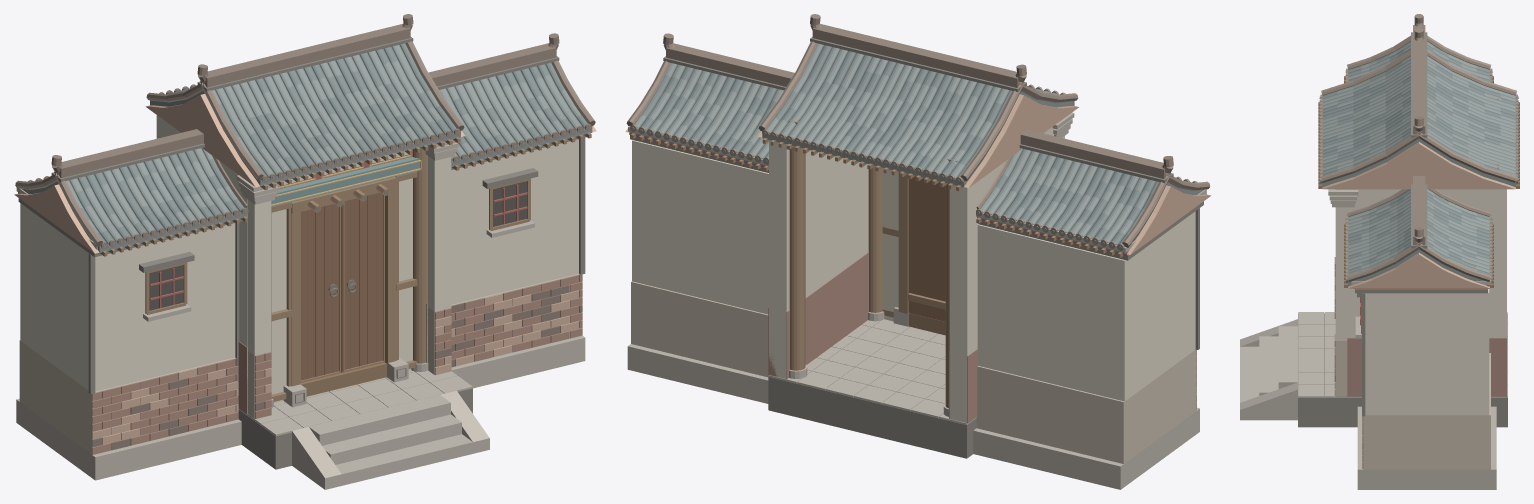
File: Manzi_Gate.glb
3 renders of one model, left to right at view 1: azimuth 30°, elevation 25°; view 2: azimuth 150°, elevation 25°; view 3: azimuth 270°, elevation 25°, orthographic. The views are drawn at different scales.
Parts seen in each view (by area): view 1: Jinzhu Gate; view 2: Jinzhu Gate; view 3: Jinzhu Gate.
Boxes of the visible parts, x1,y1,x2,y2 form: Jinzhu Gate: [14, 14, 596, 489]; Jinzhu Gate: [625, 14, 1210, 489]; Jinzhu Gate: [1240, 14, 1519, 489].
Bounding box in the file's own units: 6.36 × 4.26 × 3.47.
